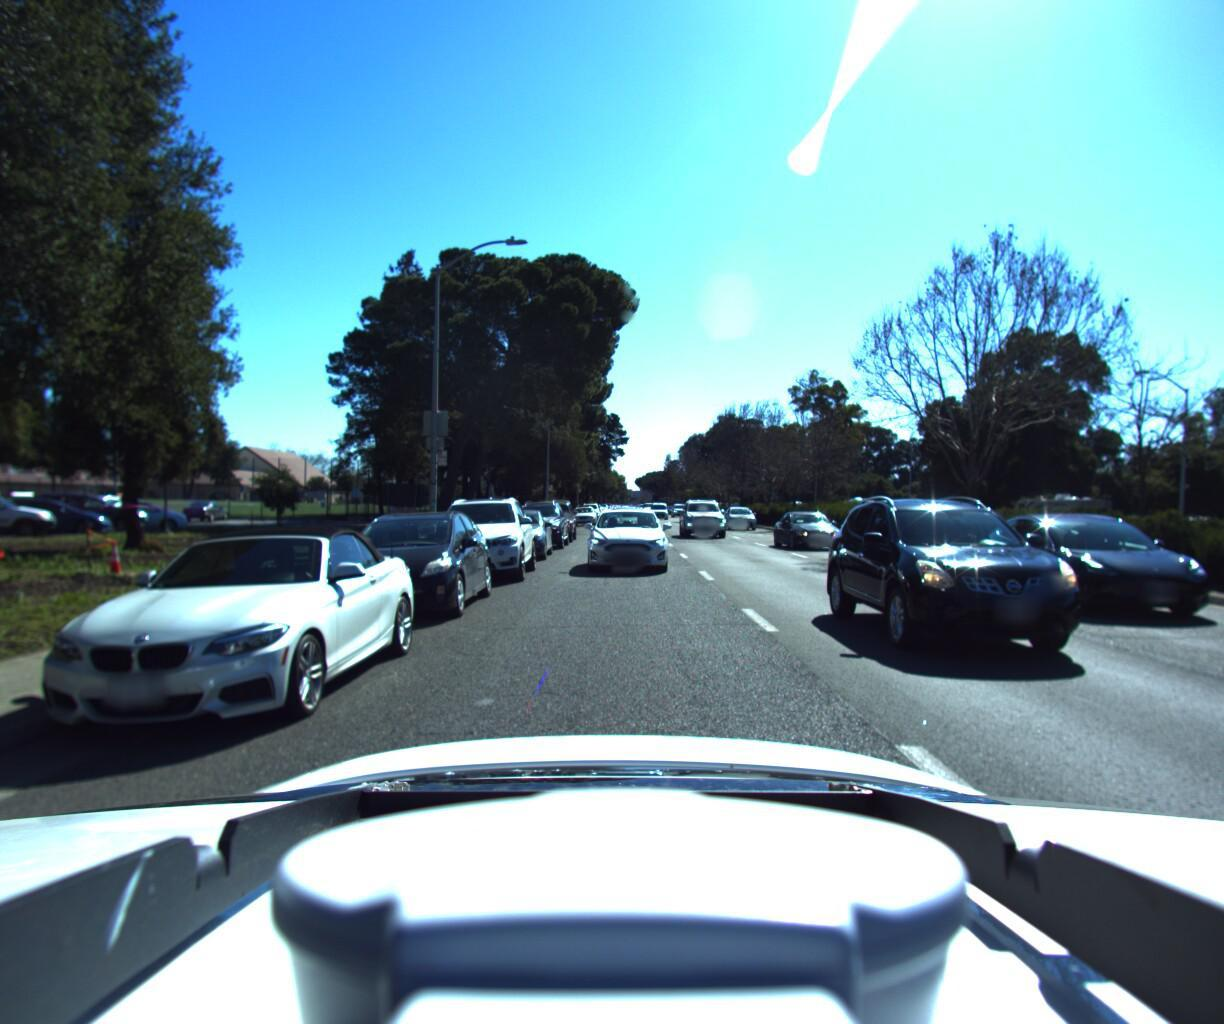car: (17, 518, 424, 758), (842, 487, 1211, 701), (979, 519, 1224, 636), (310, 505, 493, 631), (420, 493, 532, 589), (583, 504, 672, 577), (476, 504, 551, 562), (772, 511, 857, 554), (505, 497, 566, 551), (677, 498, 734, 543), (523, 494, 573, 544), (608, 507, 646, 538), (721, 506, 761, 533), (567, 504, 594, 525), (647, 501, 669, 520)
other_vehicle: (1007, 488, 1120, 552)
